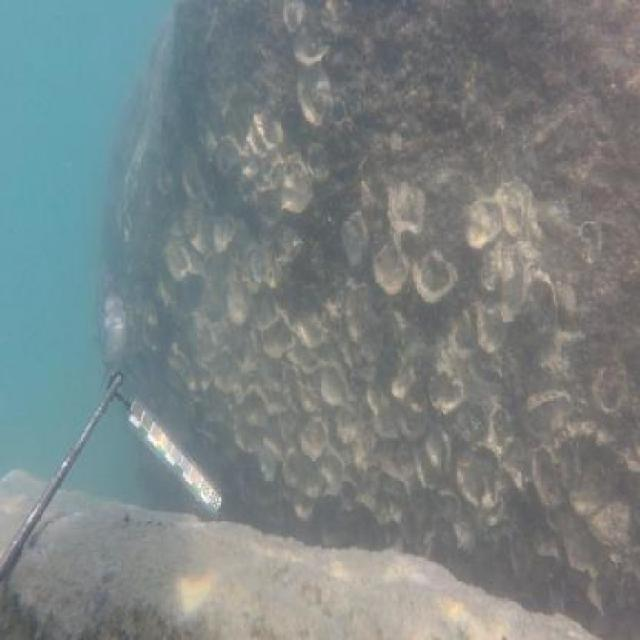acanthopagrus_palmaris: (95, 277, 131, 372)
